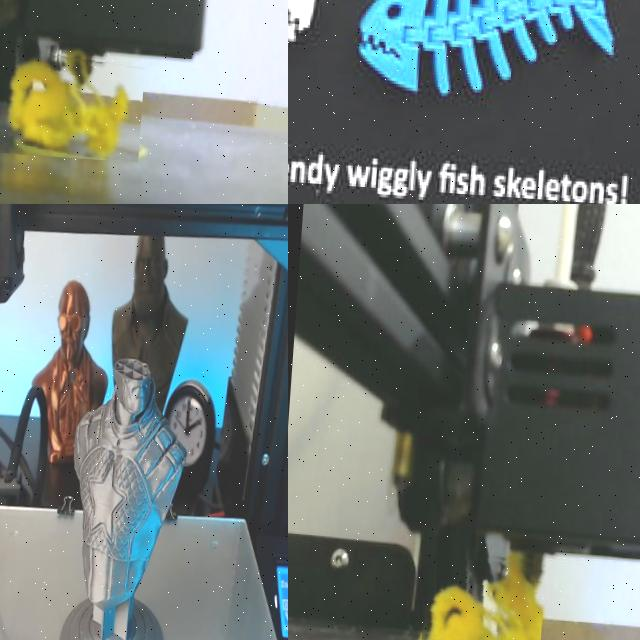spaghetti: (0, 47, 145, 162), (411, 547, 546, 640)
